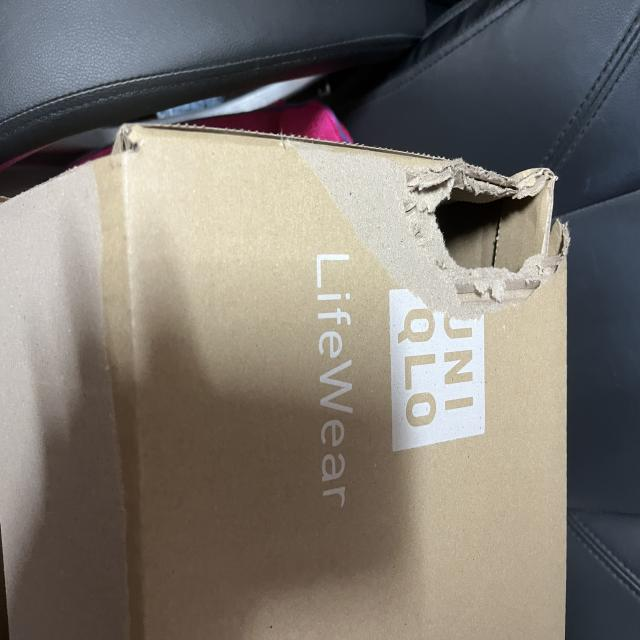hole: (413, 172, 553, 277)
